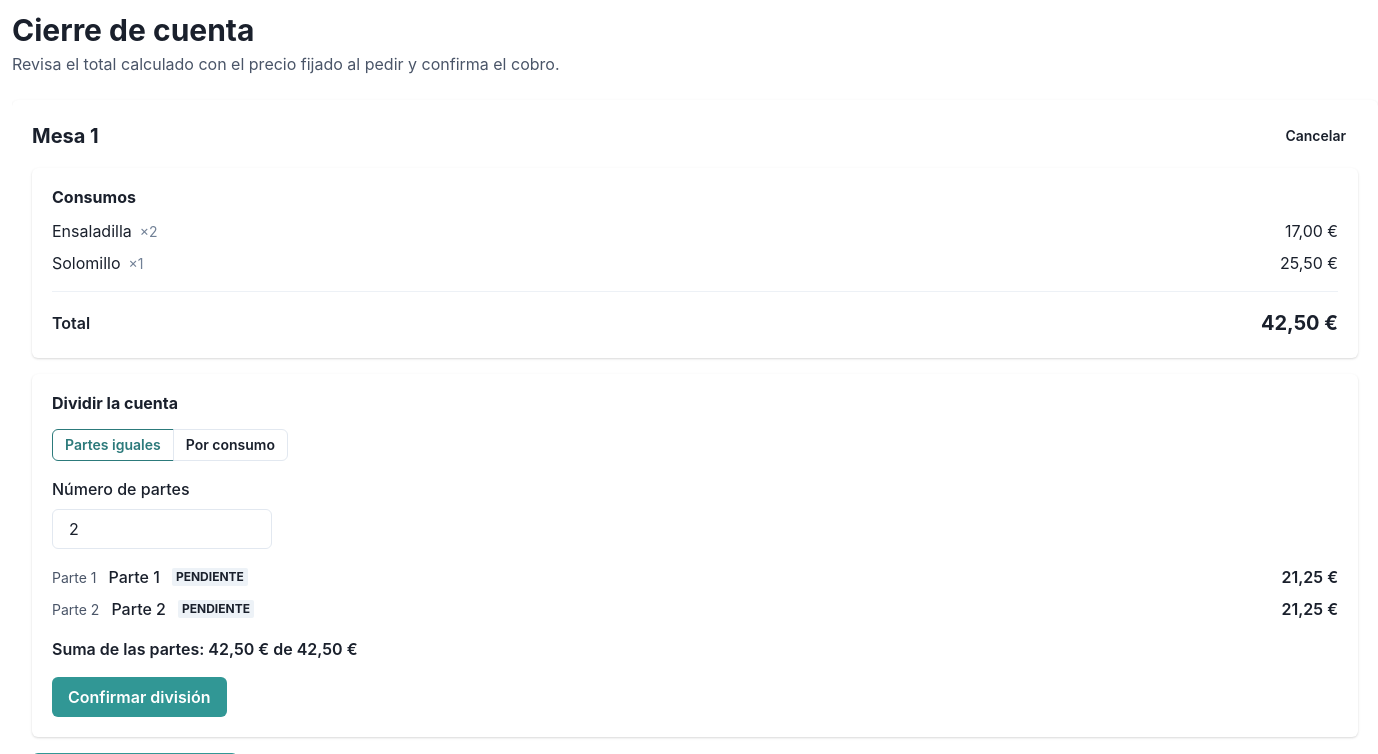
Scenario: CierreCuenta (US2) › divide la cuenta y sustituye el cobro único por el aviso de cuenta dividida
Expected: the heading "Dividir la cuenta" is shown, [52,393,178,413]
Click the button "Confirmar división": [139, 697] box [52,677,227,717]
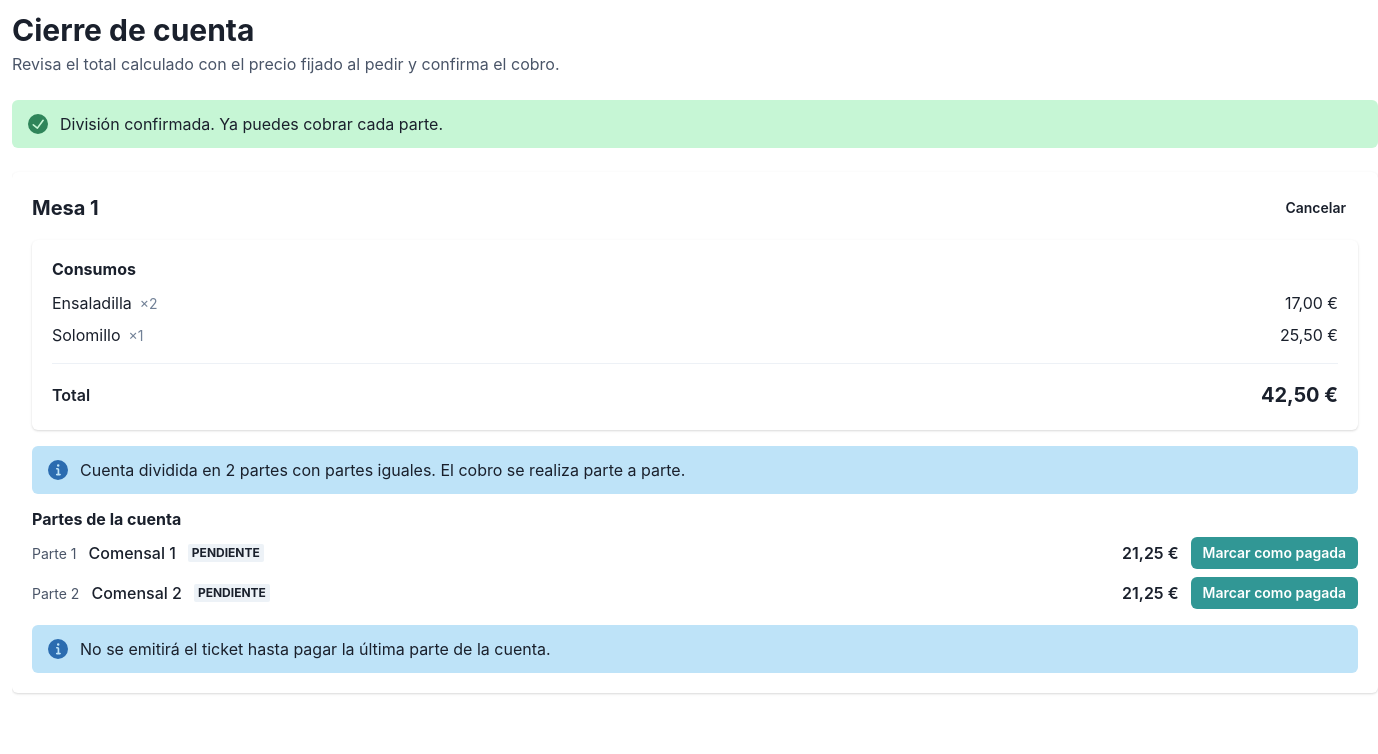
Result: the text "División confirmada. Ya puedes cobrar cada parte." is shown at [60,112,443,136]
Result: the text "Cuenta dividida en 2 parte" is shown at [80,458,685,482]
